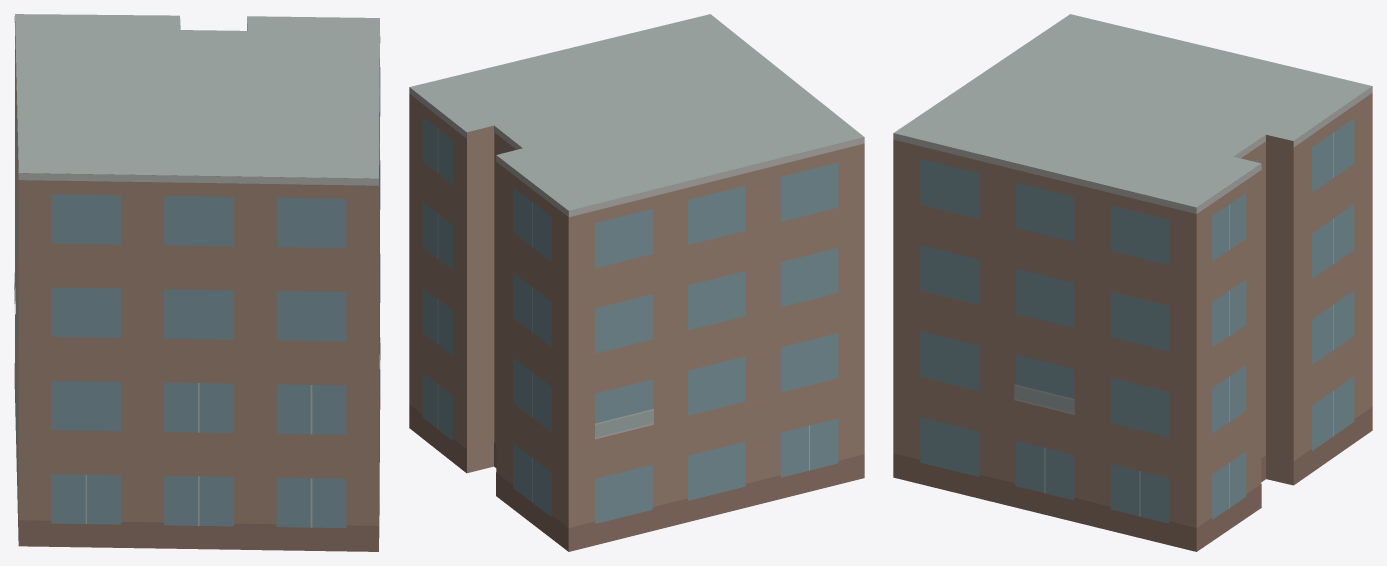
The model's file is survey-upis-32655021.glb.
3 renders of one model, left to right at view 1: azimuth 30°, elevation 25°; view 2: azimuth 150°, elevation 25°; view 3: azimuth 270°, elevation 25°, orthographic. The views are drawn at different scales.
Parts seen in each view (by area): view 1: survey-upis-32655021.tmp; view 2: survey-upis-32655021.tmp; view 3: survey-upis-32655021.tmp.
Part boxes in pixels (x1=…): survey-upis-32655021.tmp: x1=14, y1=14, x2=380, y2=551; survey-upis-32655021.tmp: x1=409, y1=14, x2=864, y2=551; survey-upis-32655021.tmp: x1=893, y1=14, x2=1372, y2=551.
Size of the model in its own units: 15.49 by 12.85 by 16.21.
